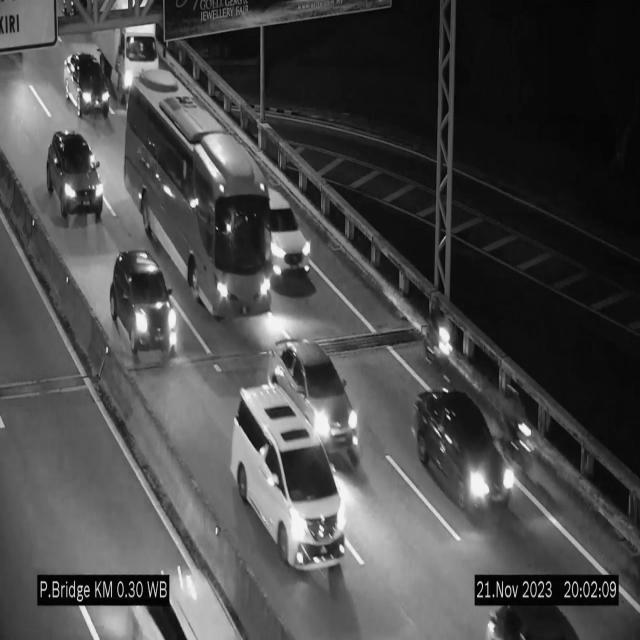Bus: (121, 68, 274, 322)
Car: (231, 383, 345, 570), (411, 388, 512, 510), (266, 338, 362, 466), (108, 246, 180, 360), (44, 127, 106, 221), (262, 178, 312, 276), (62, 48, 112, 120)
Motorcycle: (498, 381, 533, 466), (423, 291, 454, 374)
